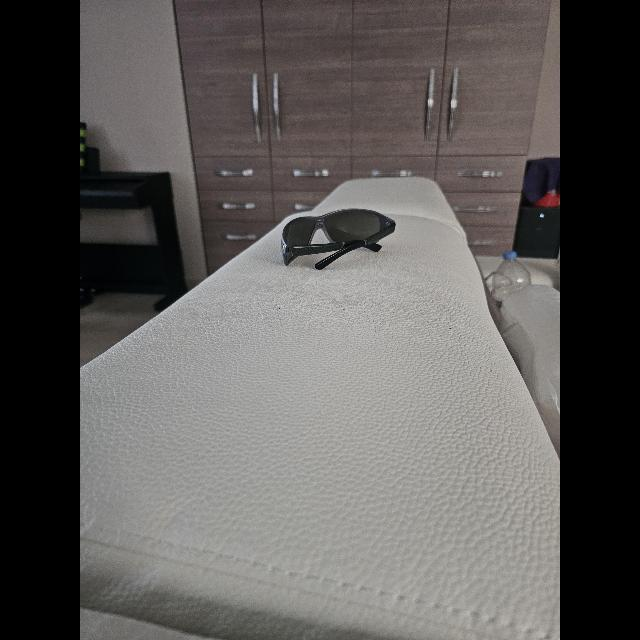Sunglasses: (281, 208, 395, 270)
